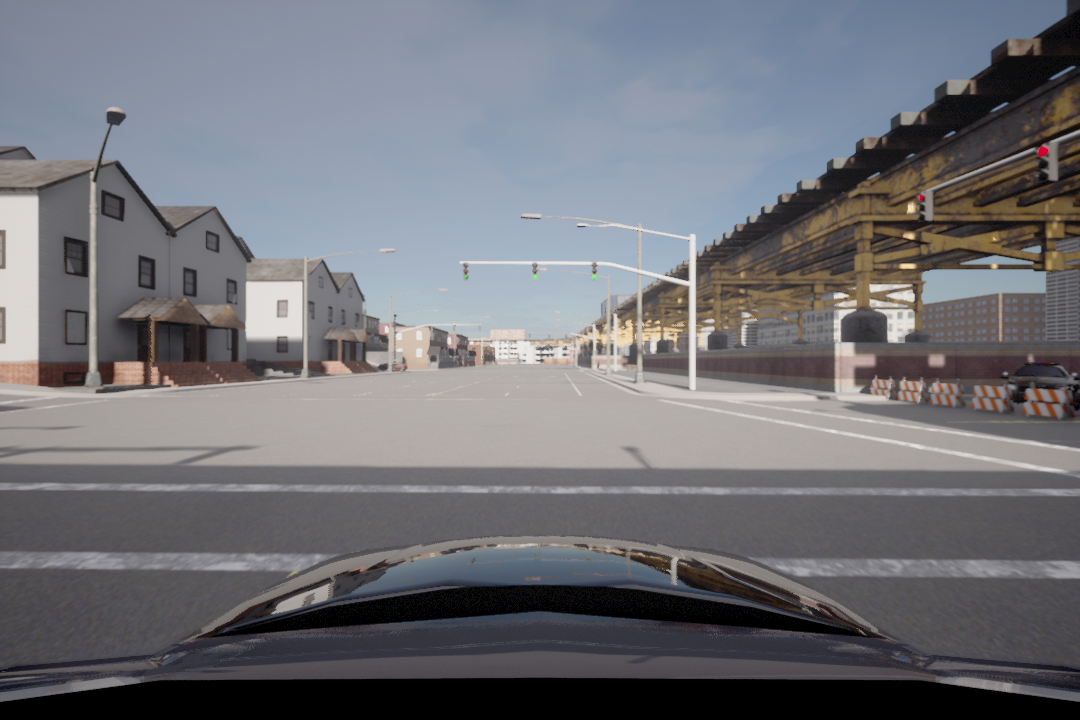TrafficLight: (1034, 141, 1058, 187), (917, 189, 935, 223), (530, 261, 541, 282), (461, 262, 471, 281), (589, 261, 598, 281)
